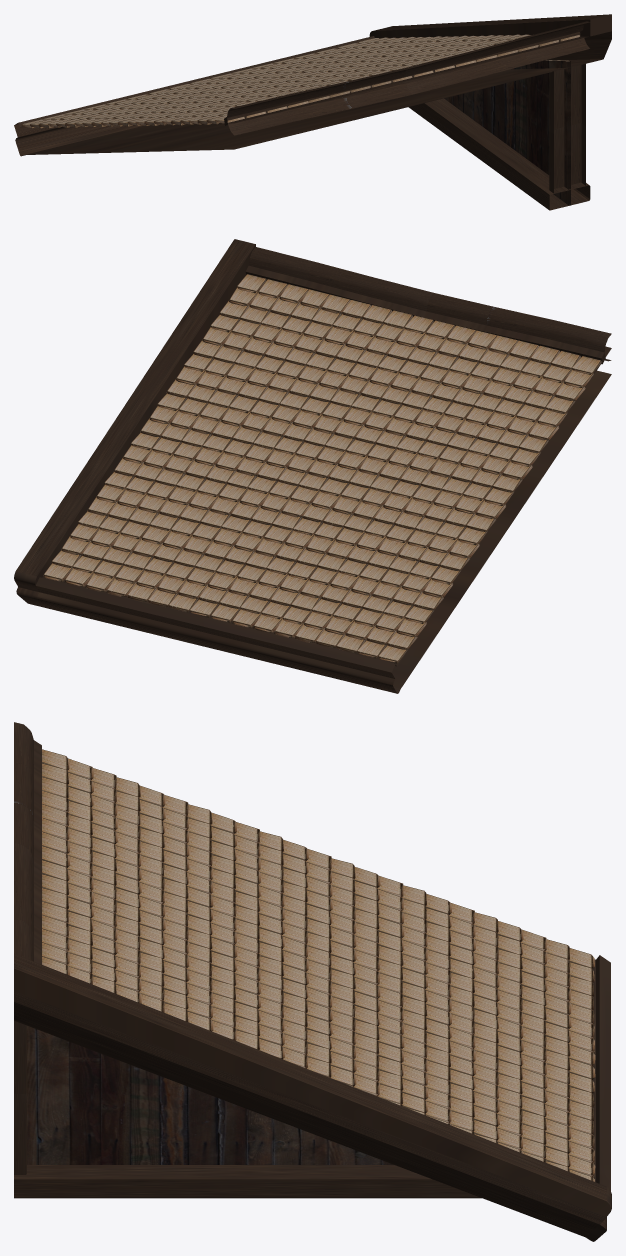
Rendered from OutdoorArchitecture_Roof02_Tiles02_BShortt.fbx.
3 views of the same model, one above another, from view 1: azimuth 30°, elevation 25°; view 2: azimuth 150°, elevation 25°; view 3: azimuth 270°, elevation 25° (orthographic). The views are drawn at different scales.
Parts seen in each view (by area): view 1: OutdoorArchitecture_Roof02_Tiles02_BShortt; view 2: OutdoorArchitecture_Roof02_Tiles02_BShortt; view 3: OutdoorArchitecture_Roof02_Tiles02_BShortt.
Boxes of the visible parts, x1,y1,x2,y2 form: OutdoorArchitecture_Roof02_Tiles02_BShortt: [14, 14, 611, 210]; OutdoorArchitecture_Roof02_Tiles02_BShortt: [14, 239, 611, 693]; OutdoorArchitecture_Roof02_Tiles02_BShortt: [14, 722, 611, 1241].
Bounding box in the file's own units: 338 × 176 × 342.
